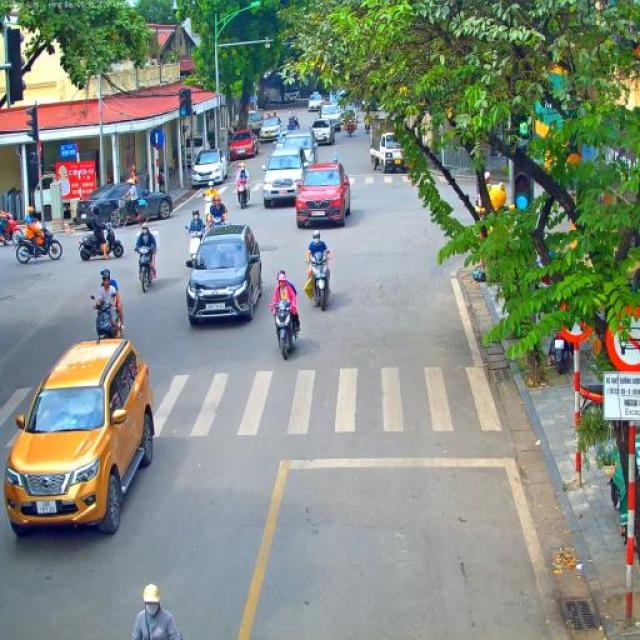car: (3, 338, 157, 538), (184, 222, 264, 326), (76, 182, 174, 226), (294, 160, 351, 229), (261, 144, 310, 208), (192, 148, 228, 190), (282, 129, 316, 170), (227, 130, 258, 161), (309, 118, 336, 146), (319, 103, 342, 132), (259, 117, 283, 144), (247, 110, 263, 140), (342, 108, 358, 131), (308, 92, 324, 112), (276, 133, 288, 147)
motorcycle: (14, 222, 64, 264), (77, 223, 125, 262), (272, 300, 302, 360), (90, 294, 124, 341), (310, 252, 330, 312), (134, 243, 157, 293), (0, 214, 25, 248), (552, 327, 569, 374), (185, 226, 206, 264), (202, 193, 216, 232), (236, 177, 252, 209), (208, 217, 227, 229), (288, 113, 301, 129), (344, 118, 354, 138), (363, 118, 372, 134)
truck: (26, 166, 74, 223), (368, 111, 408, 174), (266, 78, 300, 103)
